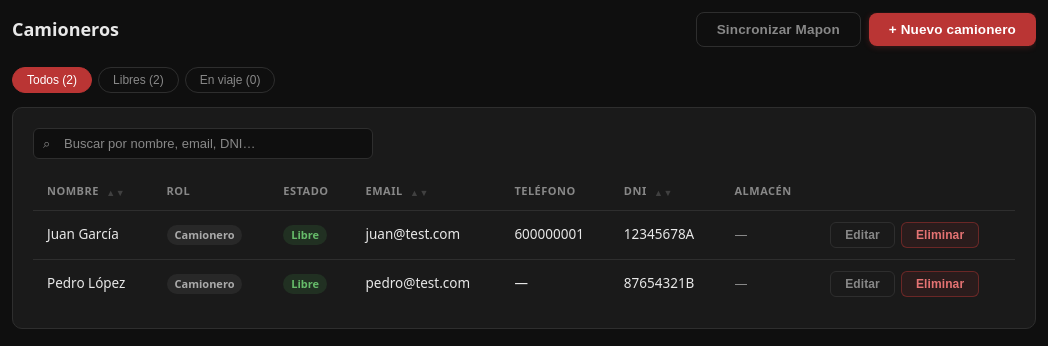
Scenario: elimina un camionero tras confirmar
Expected: the text "Juan García" is shown, [33, 210, 152, 259]
Click the button "Eliminar" in the row of "García": (940, 234) [901, 222, 979, 248]
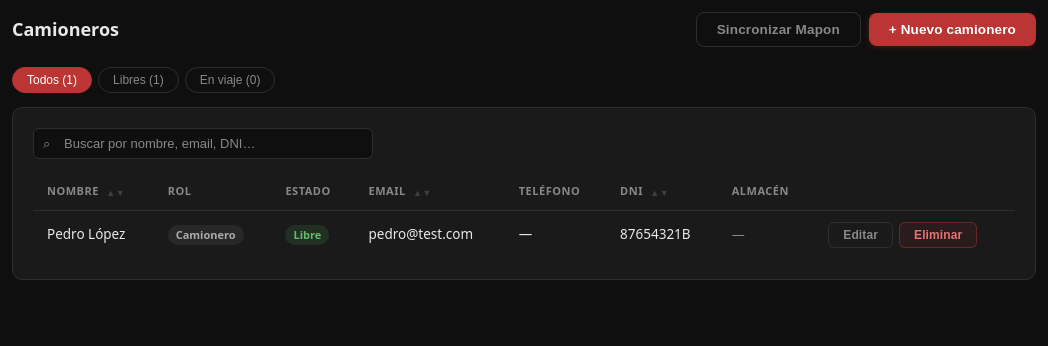
Expected: the text "Juan García" is gone
